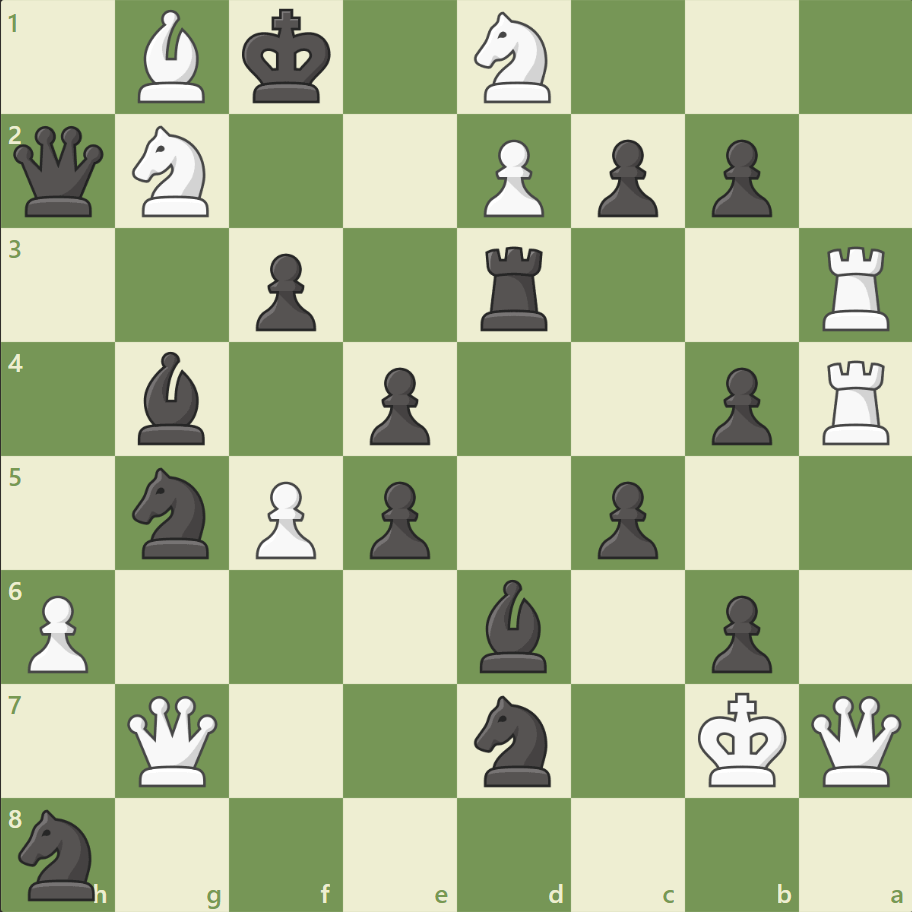B: (131, 6, 215, 109)
K: (692, 685, 792, 793)
N: (124, 121, 222, 223), (465, 7, 562, 110)
P: (20, 586, 95, 677), (247, 473, 322, 564), (474, 132, 549, 223)
Q: (805, 690, 904, 789), (124, 690, 223, 789)
R: (814, 352, 897, 449), (814, 239, 897, 336)
b: (471, 574, 555, 676), (131, 347, 215, 449)
k: (238, 4, 338, 112)
n: (124, 461, 222, 564), (465, 688, 562, 791), (11, 802, 108, 904)
p: (701, 586, 776, 677), (701, 359, 776, 450), (247, 246, 322, 337), (701, 132, 776, 223), (588, 473, 662, 564), (361, 473, 435, 564), (361, 359, 435, 450), (588, 132, 662, 223)
q: (10, 122, 109, 222)
r: (473, 239, 556, 336)
